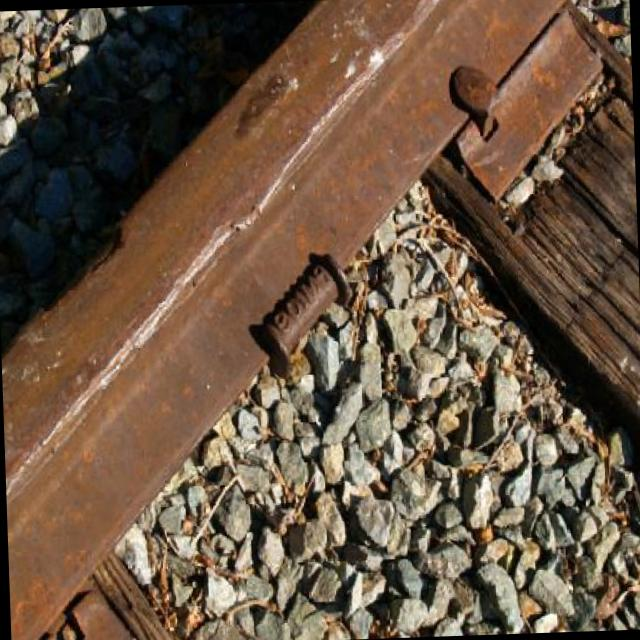defective: (0, 35, 584, 425)
